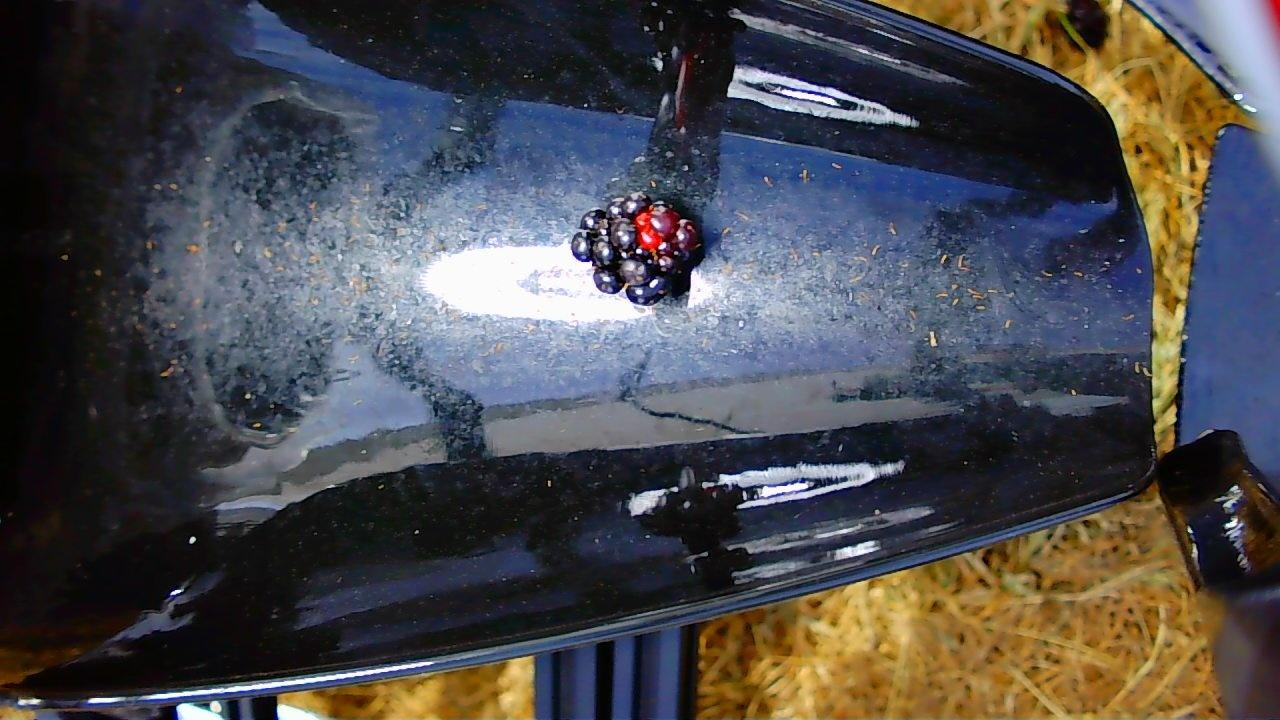berry: (571, 193, 700, 304)
